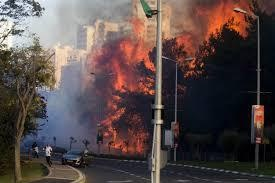fire: (86, 15, 160, 159), (253, 105, 264, 127)
